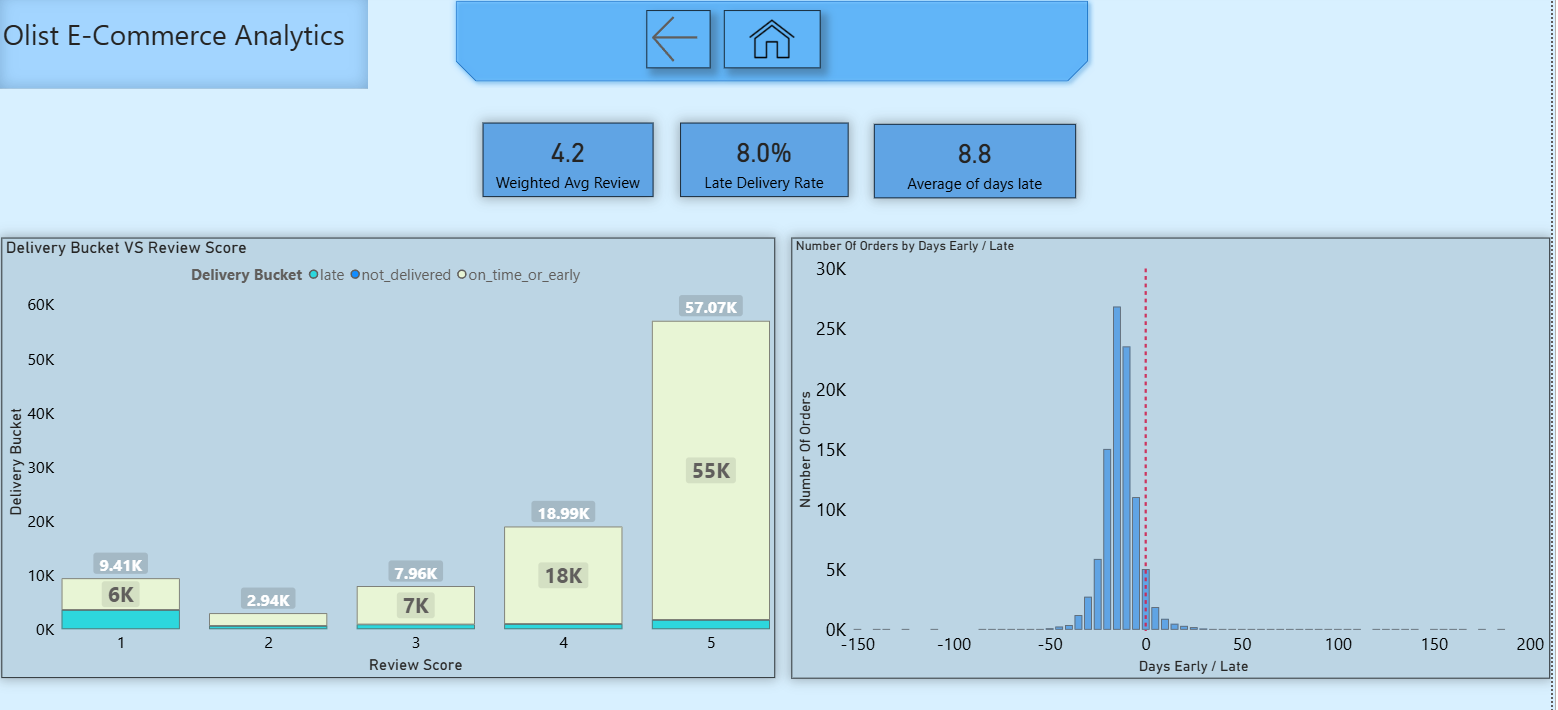

The dashboard page shown, as its layout file describes it:
{"tool":"powerbi","page":{"name":"Delivery & Satisfaction","canvas":[2060,960],"ordinal":2},"visuals":[{"type":"shape","box":[596.7,0,856.7,125],"z":0},{"type":"image","box":[961.3,22.3,128.3,76.7],"z":1000},{"type":"actionButton","box":[859.7,22.3,85,76.7],"z":2000},{"type":"card","fields":{"Values":["public v_delivery_bucket_avg_review.Weighted Avg Review"]},"box":[642.1,171,226.7,98.3],"z":3000},{"type":"card","fields":{"Values":["public v_delivery_bucket_avg_review.Late %"]},"box":[903.8,171,223.3,98.3],"z":4000},{"type":"card","fields":{"Values":["Avg(public v_delivery_delay_vs_review.days_late)"]},"box":[1160.8,172,268,98],"z":5000},{"type":"columnChart","title":"Delivery Bucket VS Review Score","fields":{"Series":["public v_delivery_delay_vs_review.delivery_bucket"],"Y":["CountNonNull(public v_delivery_delay_vs_review.delivery_bucket)"],"Category":["public v_delivery_delay_vs_review.review_score"]},"box":[4,324,1026,584],"z":6000},{"type":"clusteredColumnChart","fields":{"Category":["public v_delivery_delay_vs_review.days_late (bins)"],"Y":["CountNonNull(public v_delivery_delay_vs_review.days_late)"]},"box":[1052,323.3,1006.7,585],"z":7000},{"type":"shape","box":[0,0,489.6,125.8],"z":7001},{"type":"textbox","box":[0,22.5,489.6,83.1],"z":7002}]}

Visuals, with their boxes in screenshot pixels (x1, y1, x2, y2), scaled from the page's 2060x960 canvas onto the 1558x710 screenshot:
shape: x1=451 y1=0 x2=1099 y2=92
image: x1=727 y1=16 x2=824 y2=73
actionButton: x1=650 y1=16 x2=714 y2=73
card - public v_delivery_bucket_avg_review.Weighted Avg Review: x1=486 y1=126 x2=657 y2=199
card - public v_delivery_bucket_avg_review.Late %: x1=684 y1=126 x2=852 y2=199
card - Avg(public v_delivery_delay_vs_review.days_late): x1=878 y1=127 x2=1081 y2=200
"Delivery Bucket VS Review Score" columnChart: x1=3 y1=240 x2=779 y2=672
clusteredColumnChart - public v_delivery_delay_vs_review.days_late (bins) x CountNonNull(public v_delivery_delay_vs_review.days_late): x1=796 y1=239 x2=1557 y2=672
shape: x1=0 y1=0 x2=370 y2=93
textbox: x1=0 y1=17 x2=370 y2=78
